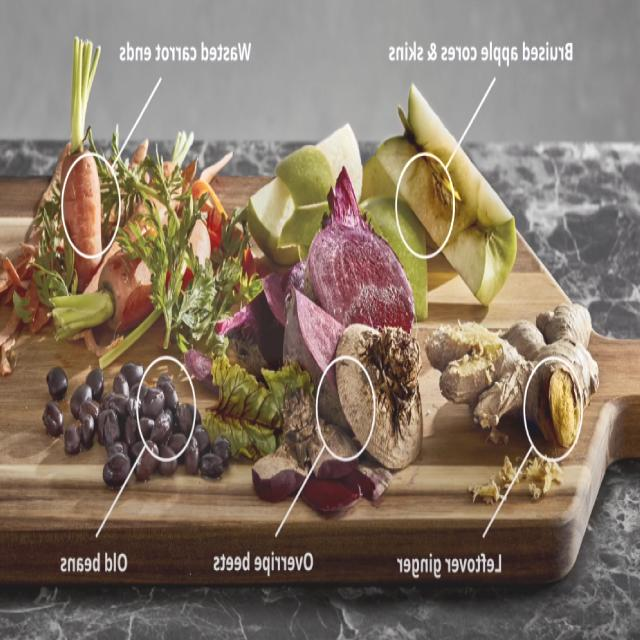inorganic: (1, 469, 634, 527), (350, 496, 581, 589), (591, 336, 639, 511)
organic: (93, 250, 209, 369), (336, 325, 424, 468), (528, 338, 598, 448), (61, 150, 106, 286)
